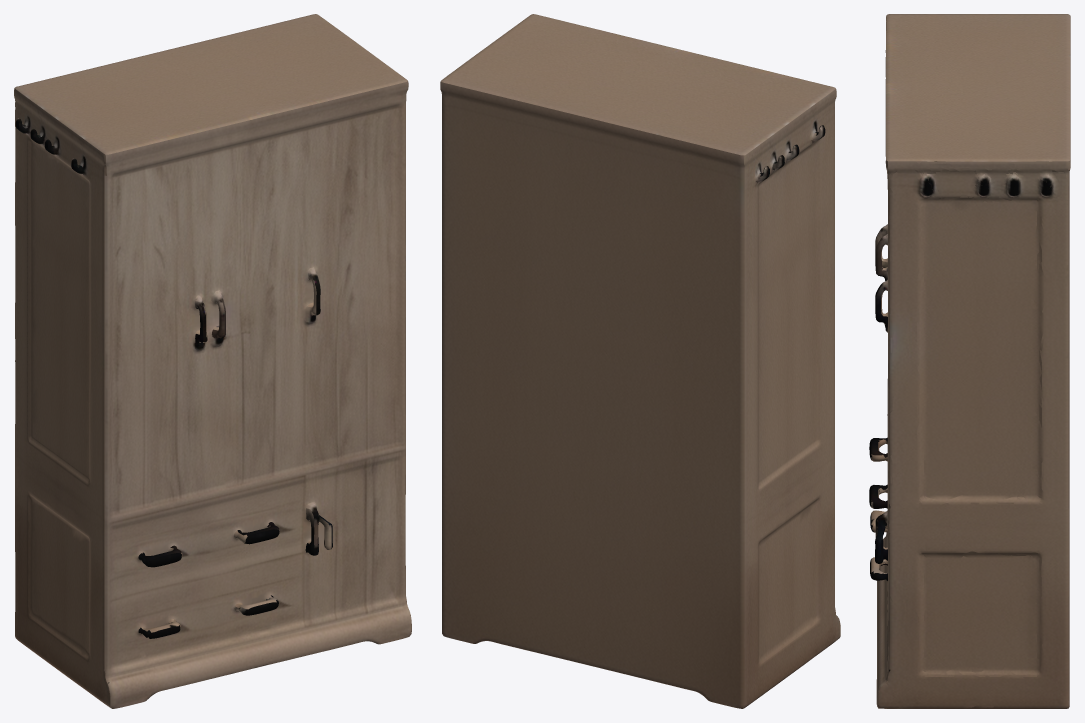
The model's file is wardrobe__wardrobe#1.glb.
3 views of the same model, side by side, from view 1: azimuth 30°, elevation 25°; view 2: azimuth 150°, elevation 25°; view 3: azimuth 270°, elevation 25° (orthographic).
Parts seen in each view (by area): view 1: tmpy361r9vp.ply; view 2: tmpy361r9vp.ply; view 3: tmpy361r9vp.ply.
Part boxes in pixels (bbox=[...]): tmpy361r9vp.ply: bbox=[14, 14, 411, 708]; tmpy361r9vp.ply: bbox=[440, 14, 840, 708]; tmpy361r9vp.ply: bbox=[869, 14, 1070, 708].
Bounding box in the file's own units: 1.2 × 1.99 × 0.6594.
Materials: 1 (1 with a texture image).
